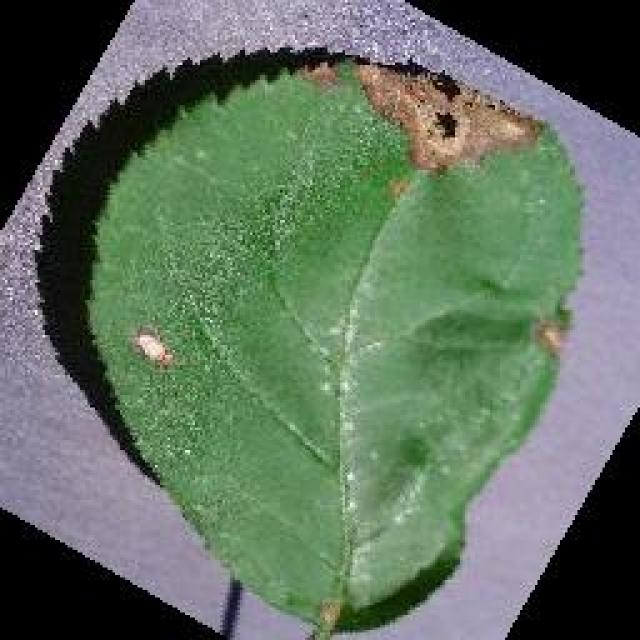Black_rot: (77, 50, 585, 638)
